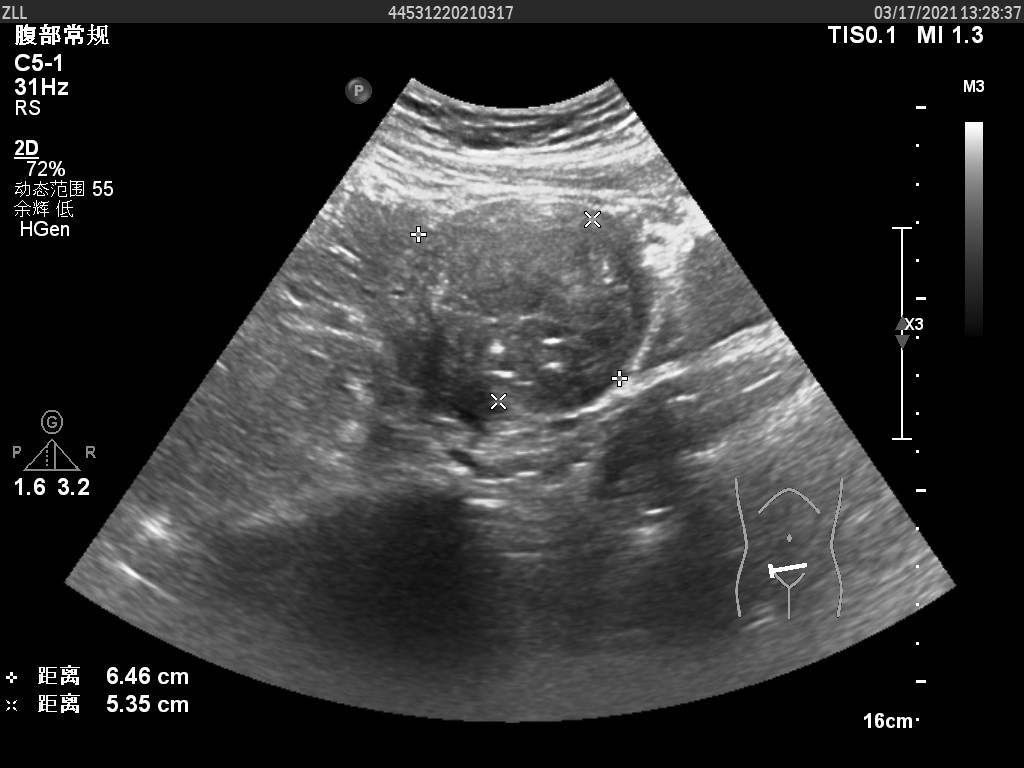肌瘤: (425, 215, 631, 399)
